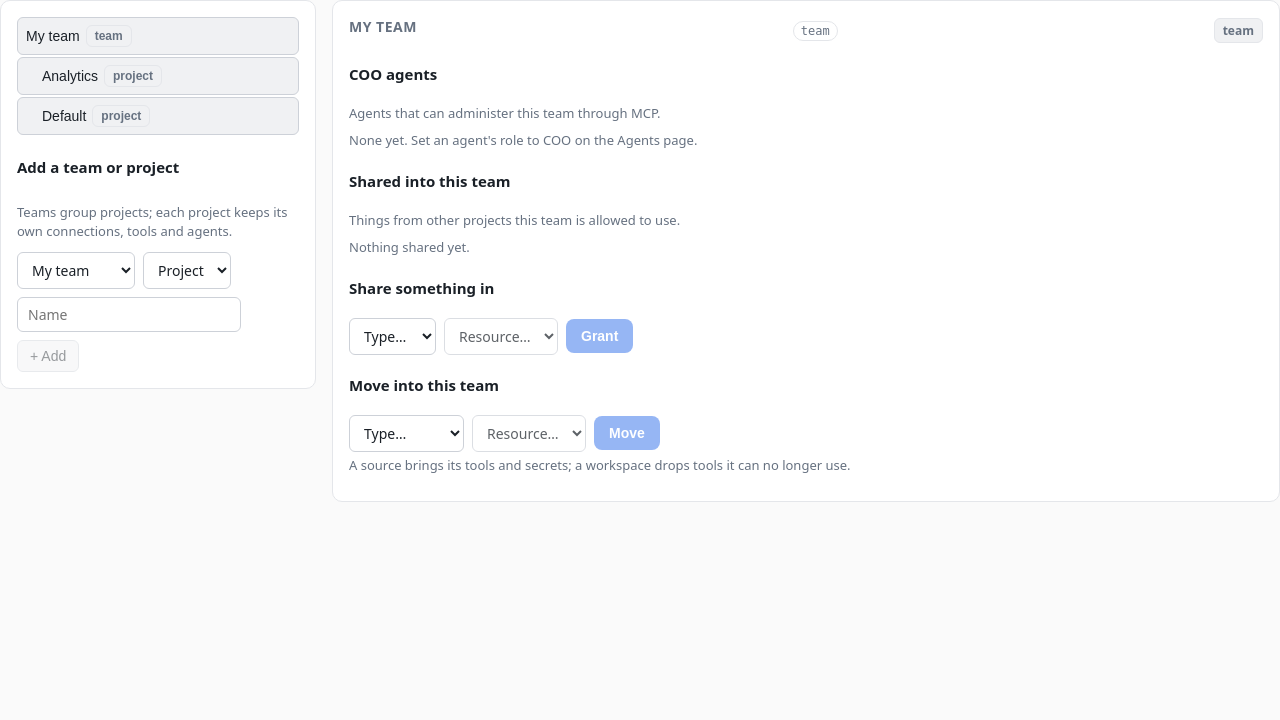
Scenario: shows who granted an allowlist row
Click the button "Analytics project".
click(158, 76)  # box [17,57,299,95]
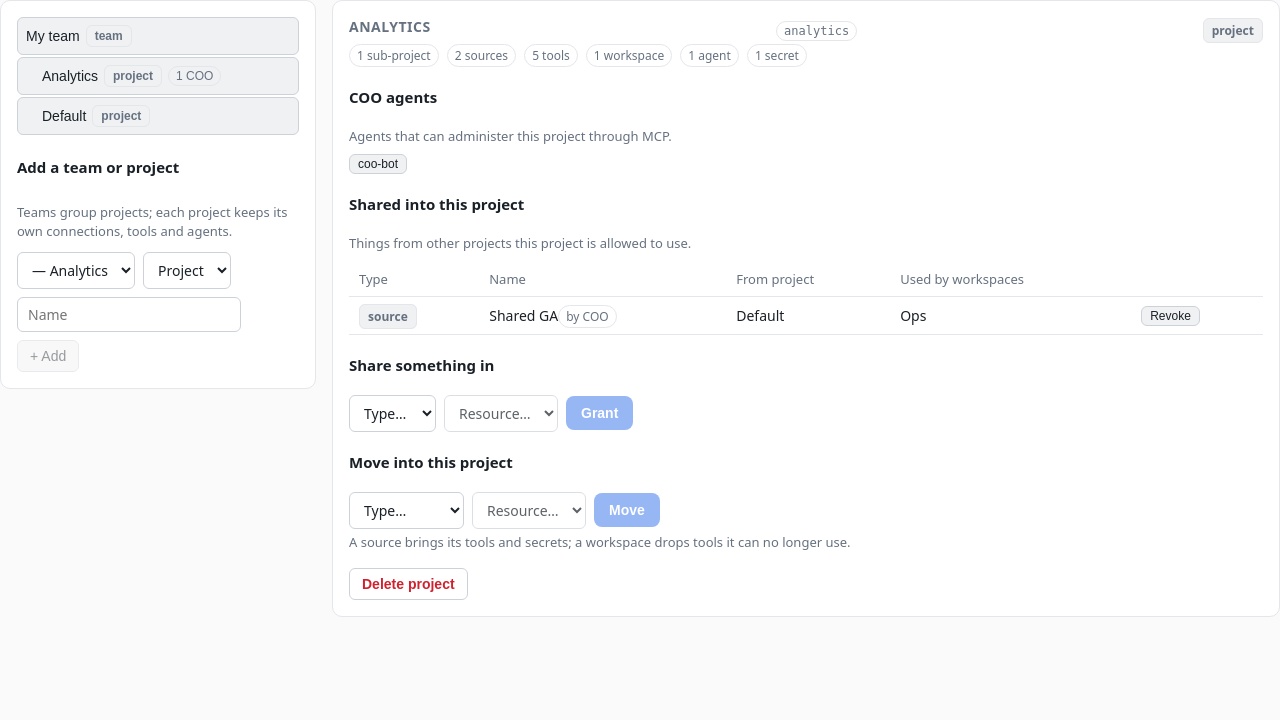
Expected: the text "by COO" is shown, [558,305,617,328]
